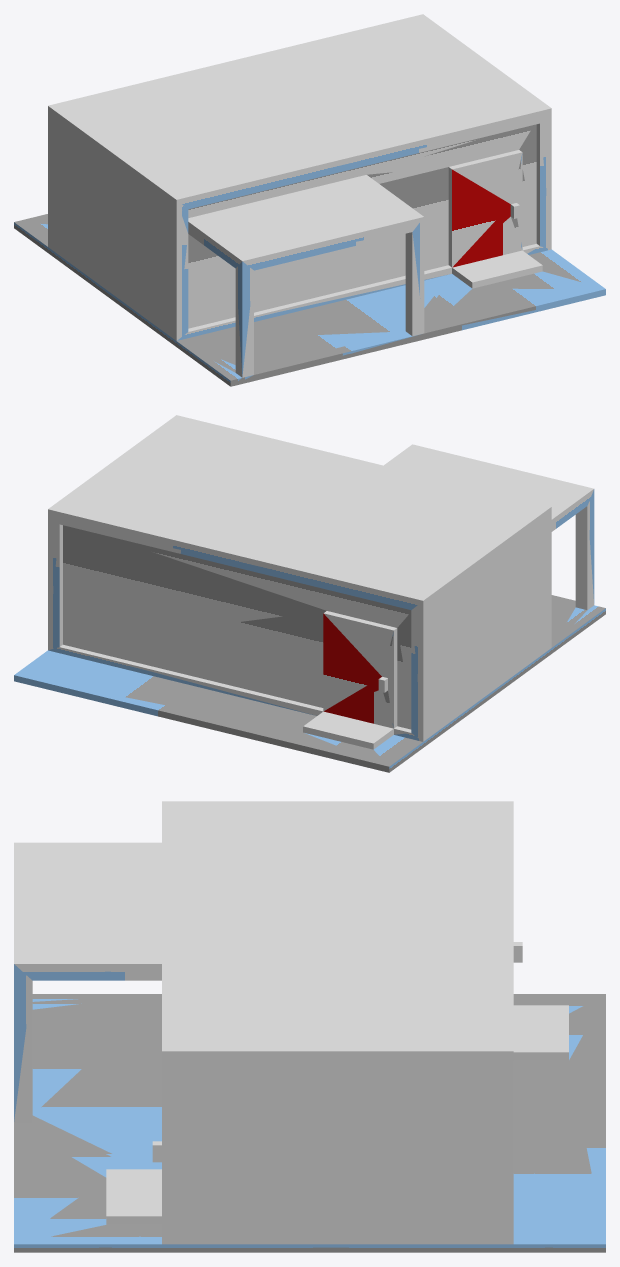
Rendered from obj_house2a.dae.
3 views of the same model, one above another, from view 1: azimuth 30°, elevation 25°; view 2: azimuth 150°, elevation 25°; view 3: azimuth 270°, elevation 25° (orthographic). The views are drawn at different scales.
Parts seen in each view (by area): view 1: obj_house2a; view 2: obj_house2a; view 3: obj_house2a.
Part boxes in pixels (x1=…): obj_house2a: x1=14, y1=14, x2=605, y2=386; obj_house2a: x1=14, y1=415, x2=605, y2=772; obj_house2a: x1=14, y1=801, x2=605, y2=1252.
Bounding box in the file's own units: 6.4 × 6.4 × 2.4.
